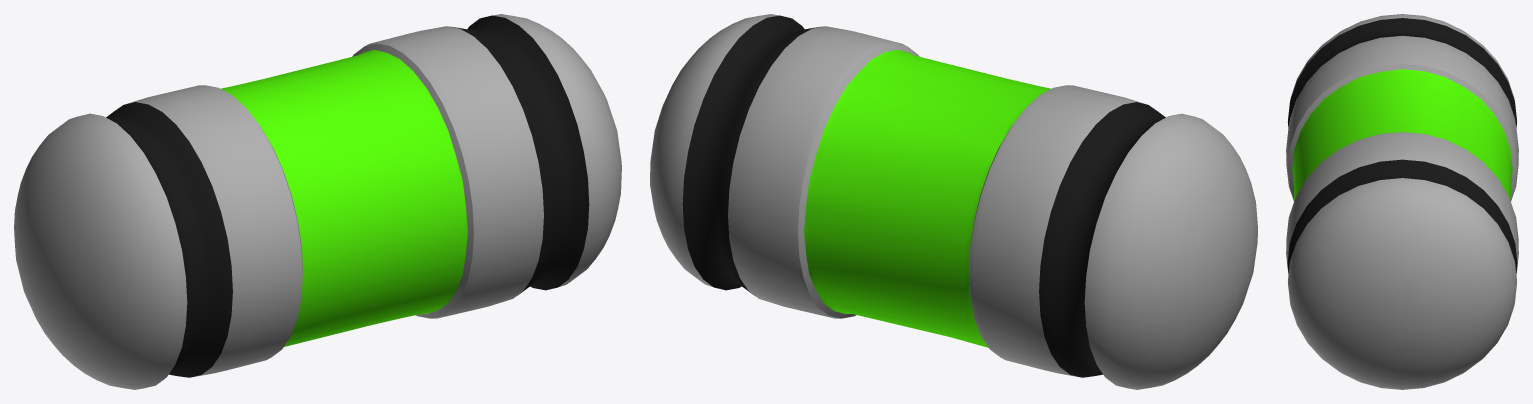
The model's file is Health.fbx.
3 views of the same model, side by side, from view 1: azimuth 30°, elevation 25°; view 2: azimuth 150°, elevation 25°; view 3: azimuth 270°, elevation 25° (orthographic). The views are drawn at different scales.
Visible parts, largest first — view 1: Health; view 2: Health; view 3: Health.
Part boxes in pixels (bbox=[...]): Health: bbox=[14, 14, 621, 389]; Health: bbox=[650, 14, 1257, 389]; Health: bbox=[1286, 14, 1518, 389].
Size of the model in its own units: 227 by 101 by 101.
